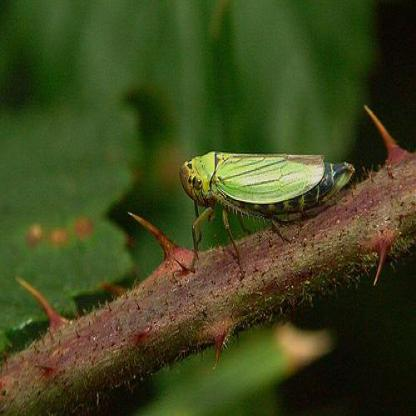Green-Leafhopper: (175, 149, 355, 266)
